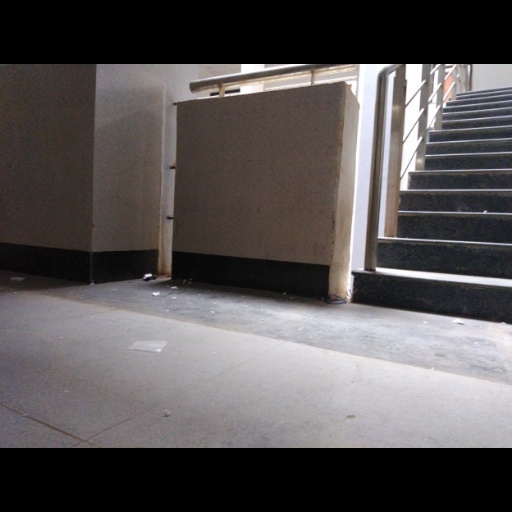Stairs: (353, 88, 512, 323)
